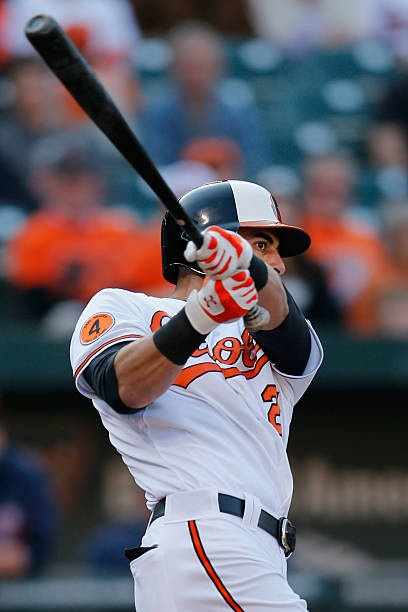bita: (29, 15, 207, 247)
